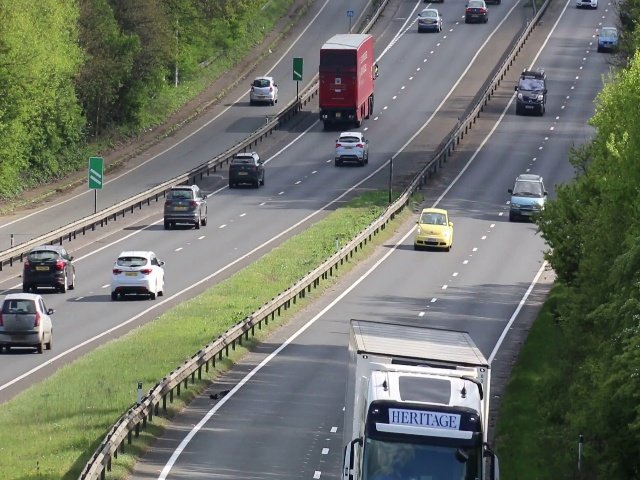car: (346, 388, 509, 480), (323, 36, 378, 126), (1, 296, 54, 355), (18, 246, 77, 292), (109, 251, 162, 300), (159, 184, 209, 228), (509, 175, 546, 225), (414, 208, 454, 251), (513, 71, 549, 115), (332, 129, 369, 168), (226, 153, 266, 188), (250, 75, 277, 103), (464, 1, 491, 24), (418, 8, 442, 33), (599, 27, 619, 54)
